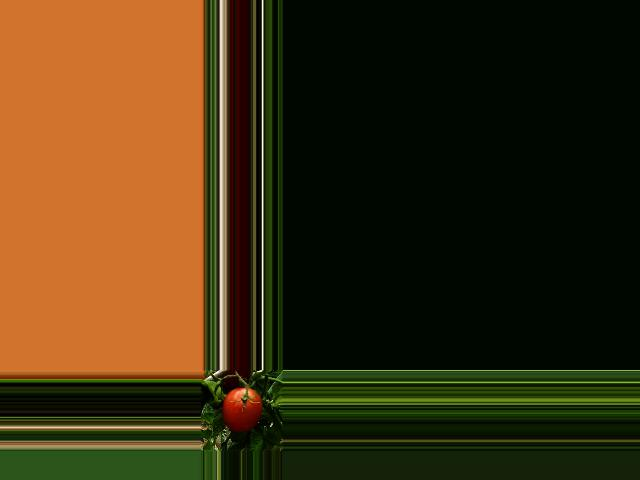tomato: (223, 387, 262, 431)
